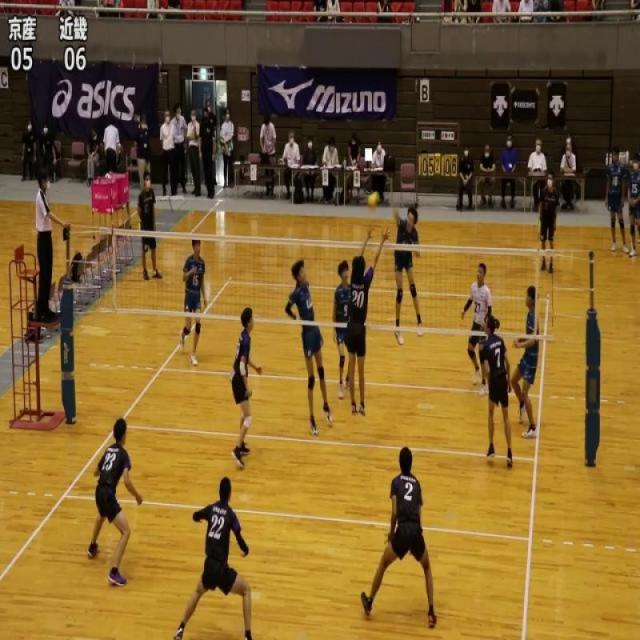volleyball: (367, 189, 380, 211)
